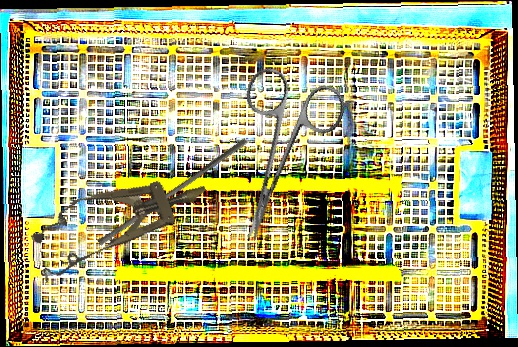Iris Scissors: (200, 61, 351, 256)
Pusher: (97, 132, 248, 251)
Speculum: (22, 156, 218, 284)
